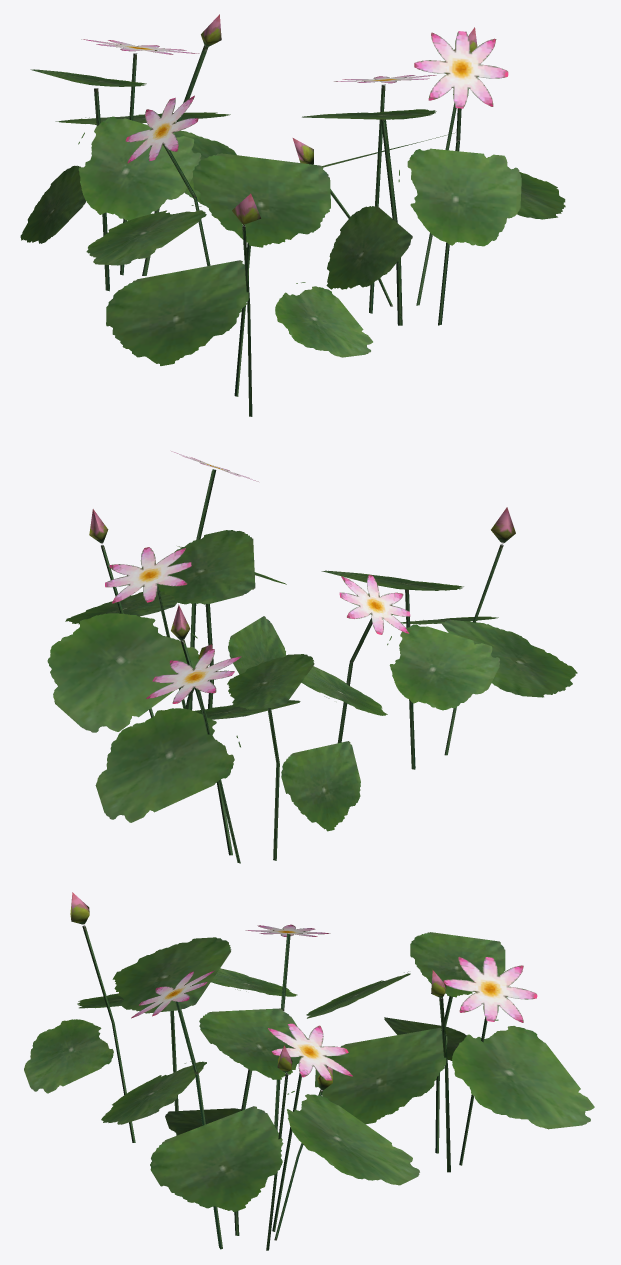
The model's file is zhiwu6.FBX.
3 renders of one model, top to bottom at view 1: azimuth 30°, elevation 25°; view 2: azimuth 150°, elevation 25°; view 3: azimuth 270°, elevation 25°, orthographic. The views are drawn at different scales.
Visible parts, largest first — view 1: 对象032; view 2: 对象032; view 3: 对象032.
Part boxes in pixels (box(x1,y1,x2,y2)): 对象032: box(20, 14, 565, 416); 对象032: box(47, 451, 577, 863); 对象032: box(24, 892, 594, 1250).
Size of the model in its own units: 6.07 by 3.2 by 6.19.
